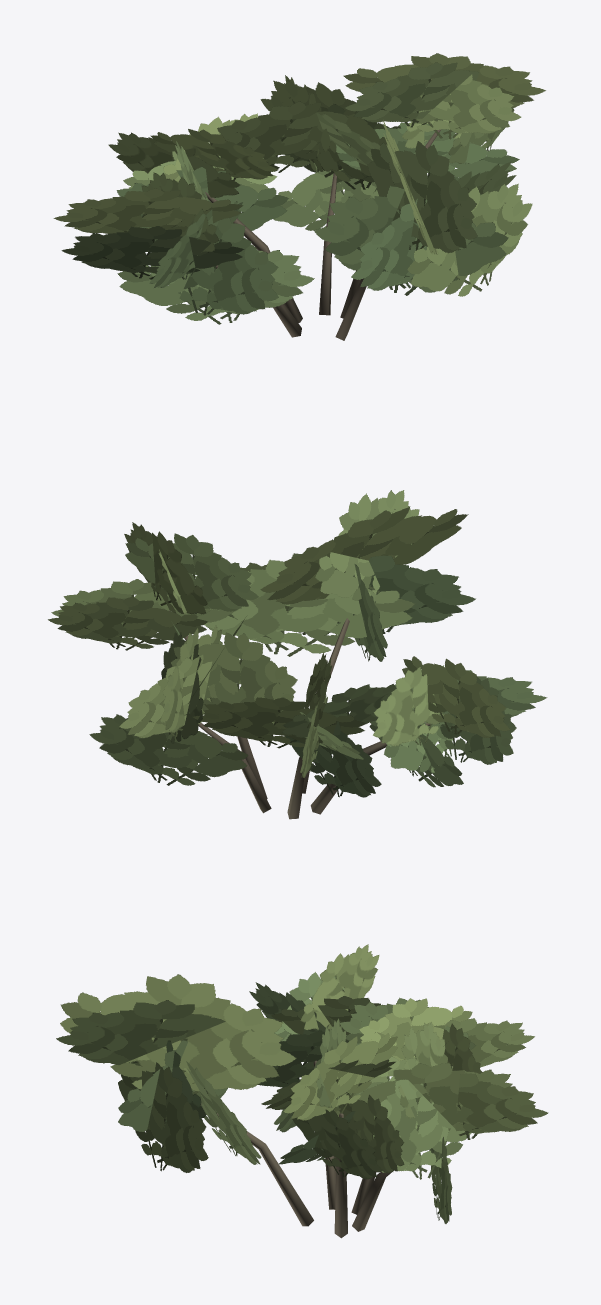
Rendered from bank-shrub-b.glb.
The picture shows the model from 3 angles, top to bottom: view 1: azimuth 30°, elevation 25°; view 2: azimuth 150°, elevation 25°; view 3: azimuth 270°, elevation 25°; orthographic projection. The views are drawn at different scales.
Parts seen in each view (by area): view 1: shrub-leaves, shrub-stems; view 2: shrub-leaves, shrub-stems; view 3: shrub-leaves, shrub-stems.
Boxes of the visible parts, x1,y1,x2,y2 form: shrub-leaves: [53, 53, 545, 324]; shrub-stems: [205, 129, 440, 340]; shrub-leaves: [48, 490, 547, 797]; shrub-stems: [169, 610, 430, 819]; shrub-leaves: [56, 944, 548, 1223]; shrub-stems: [201, 1060, 393, 1238].
Bounding box in the file's own units: 2.21 × 1.11 × 2.11.
2 materials, 1 textured.
